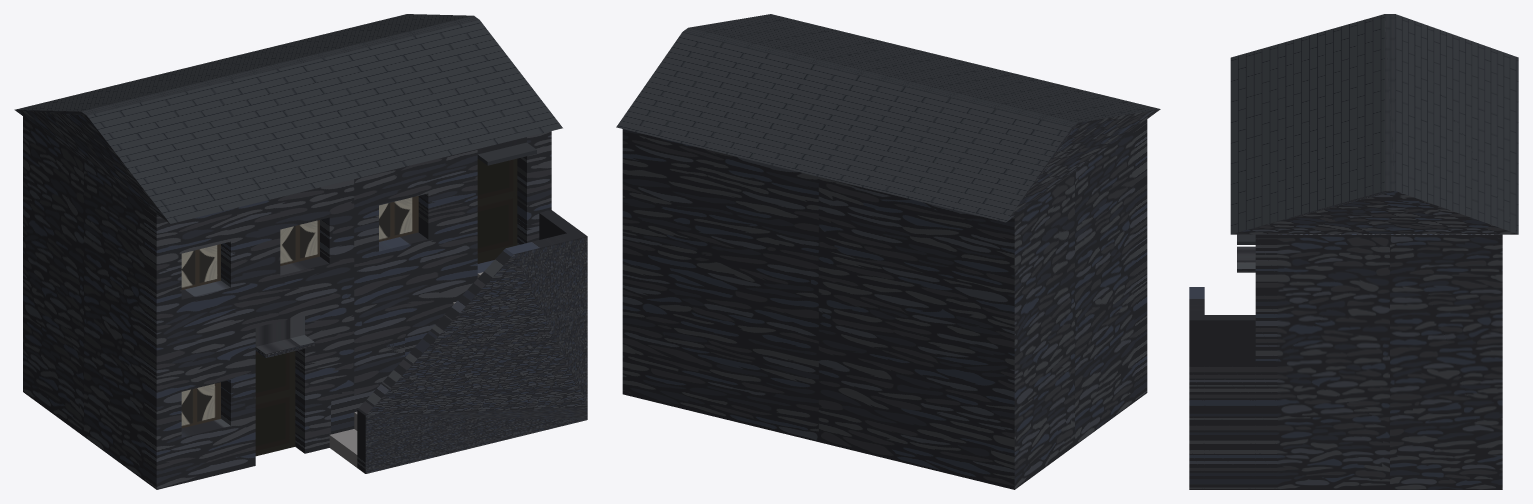
The model's file is casa3.fbx.
3 views of the same model, side by side, from view 1: azimuth 30°, elevation 25°; view 2: azimuth 150°, elevation 25°; view 3: azimuth 270°, elevation 25° (orthographic). The views are drawn at different scales.
Parts seen in each view (by area): view 1: Plane_1, pCube2, Plane_1_2, pCube1_9, pCube2_2, pCube1_4, pCube1_6, pCube1_5, pCube1_7, pCube1_8, pCube1_2, pCube1_3; view 2: Plane_1, pCube2, pCube2_2; view 3: Plane_1, pCube2, pCube2_2.
Part boxes in pixels (x1,y1,x2,y2): Plane_1: (23, 116, 586, 489); pCube2: (14, 14, 562, 223); Plane_1_2: (365, 236, 587, 473); pCube1_9: (255, 351, 295, 456); pCube2_2: (15, 110, 169, 223); pCube1_4: (477, 158, 517, 263); pCube1_6: (280, 220, 319, 265); pCube1_5: (379, 196, 418, 241); pCube1_7: (181, 244, 220, 289); pCube1_8: (181, 382, 220, 428); pCube1_2: (329, 272, 483, 467); pCube1_3: (477, 142, 536, 165); Plane_1: (622, 119, 1147, 489); pCube2: (616, 14, 1160, 222); pCube2_2: (1006, 109, 1159, 221); Plane_1: (1189, 234, 1502, 489); pCube2: (1230, 14, 1518, 234); pCube2_2: (1231, 191, 1518, 234).
Bounding box in the file's own units: 113 × 88 × 88.15.
12 materials, 12 textured.
